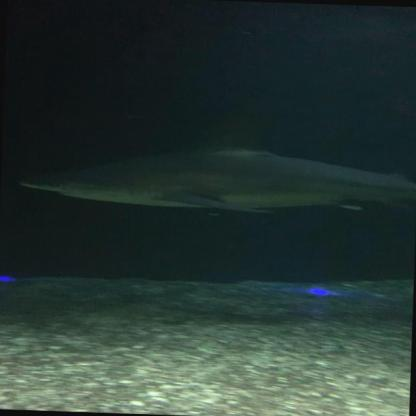shark: (15, 113, 416, 219)
